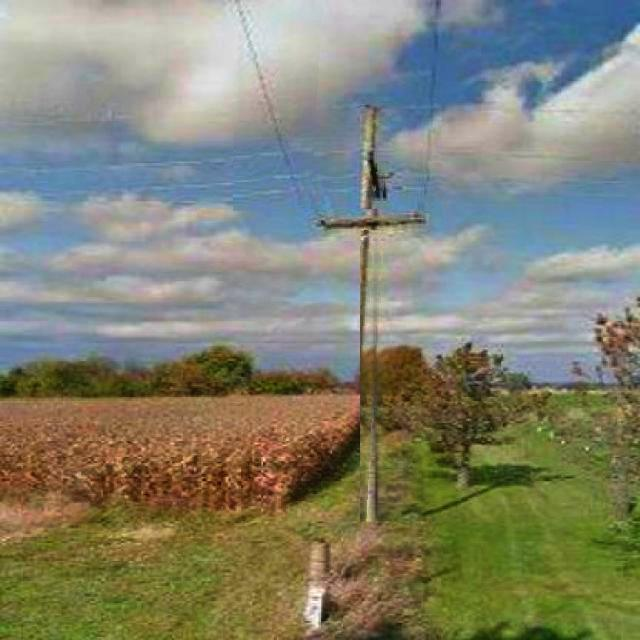crossarm: (314, 209, 431, 232)
pole: (360, 104, 385, 523)
wire: (233, 0, 313, 209), (420, 0, 441, 211)
